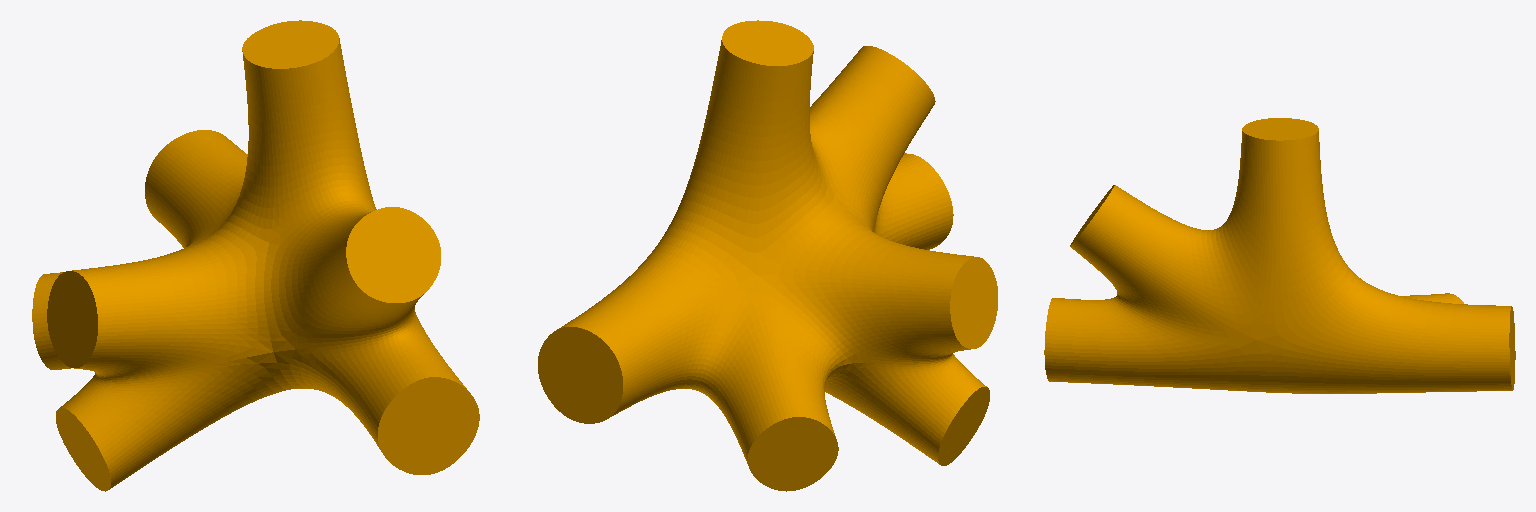
URDF robot description (object):
<robot name="object">
  <link name="object">
    <visual>
      <origin xyz="0 0 0"/>
      <geometry>
        <mesh filename="visual.obj" scale="1 1 1"/>
      </geometry>
    </visual>
    <collision>
      <origin xyz="0 0 0"/>
      <geometry>
        <mesh filename="visual.obj" scale="1 1 1"/>
      </geometry>
    </collision>
    <inertial>
      <mass value="0.05"/>
      <inertia ixx="0.00023572775260593772" iyy="0.00014020481131988609" izz="0.0002385689857200237" ixy="2.3839733610655657e-07" ixz="-2.153937042351424e-05" iyz="2.3708286795154903e-05"/>
    </inertial>
  </link>
</robot>

--- Facts derived from the render (not from the file) ---
3 views of the same robot in one strip: view 1: azimuth 30°, elevation 25°; view 2: azimuth 150°, elevation 25°; view 3: azimuth 270°, elevation 25° (orthographic).
Robot: object — 1 links, 0 joints (none); root link object; default pose: all joints at 0.
Visible links, largest first — view 1: object; view 2: object; view 3: object.
Boxes of the visible links, <box> form: object: <box>32,20,479,491</box>; object: <box>538,20,997,491</box>; object: <box>1044,118,1515,393</box>.
Bounding box of the posed robot: 0.1757 × 0.2838 × 0.2096 m (x, y, z).
Meshes: 1 distinct files referenced, 1 mesh visuals loaded (1 OBJ).
